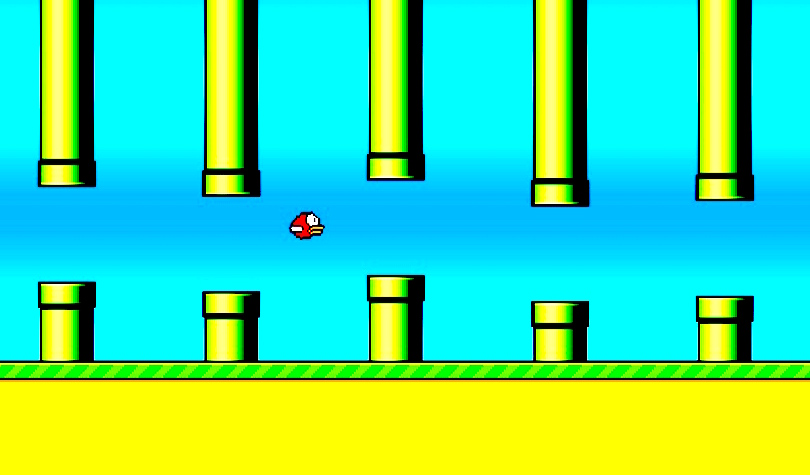flappybird: (289, 213, 329, 242)
green-pipe-down: (364, 272, 428, 365), (33, 282, 97, 361), (200, 288, 266, 364), (691, 293, 757, 365), (530, 300, 595, 360)
green-pipe-up: (532, 1, 592, 210), (696, 3, 756, 200), (203, 3, 263, 196), (38, 1, 99, 189), (366, 1, 429, 183)
